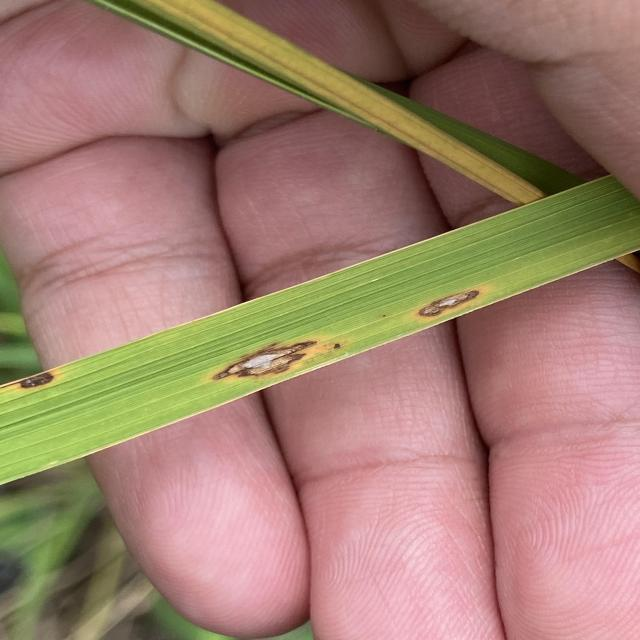Dao on: (208, 337, 322, 382), (413, 288, 480, 317)
